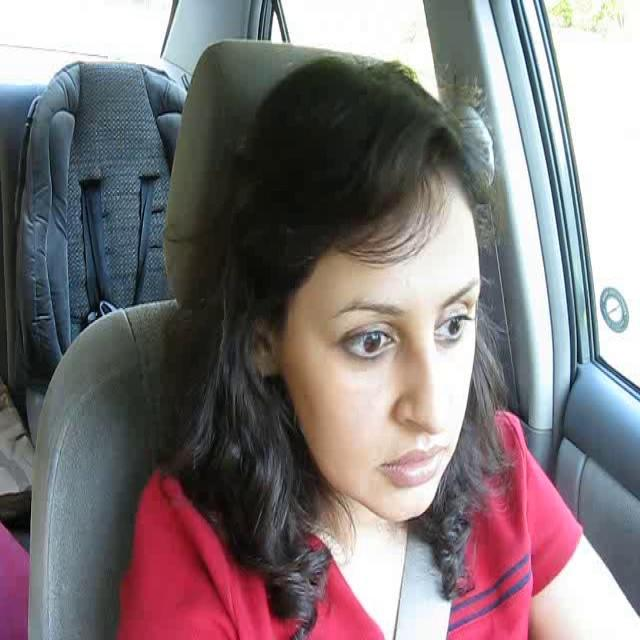close: (378, 442, 453, 488)
